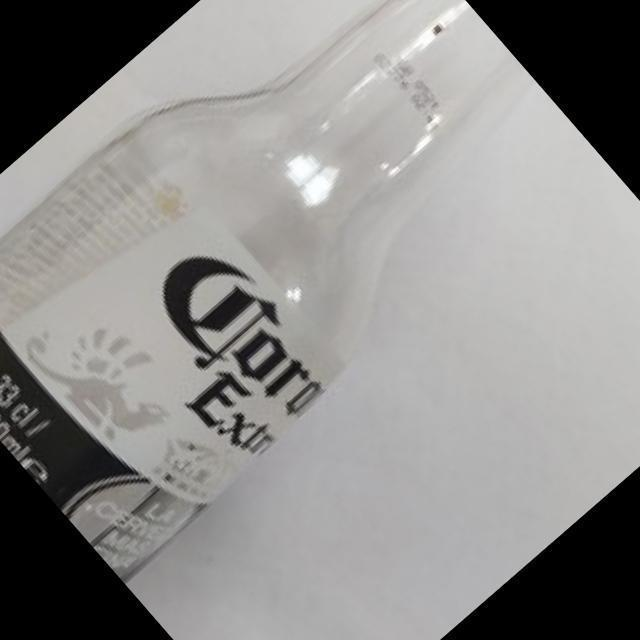Glass: (0, 0, 535, 583)
